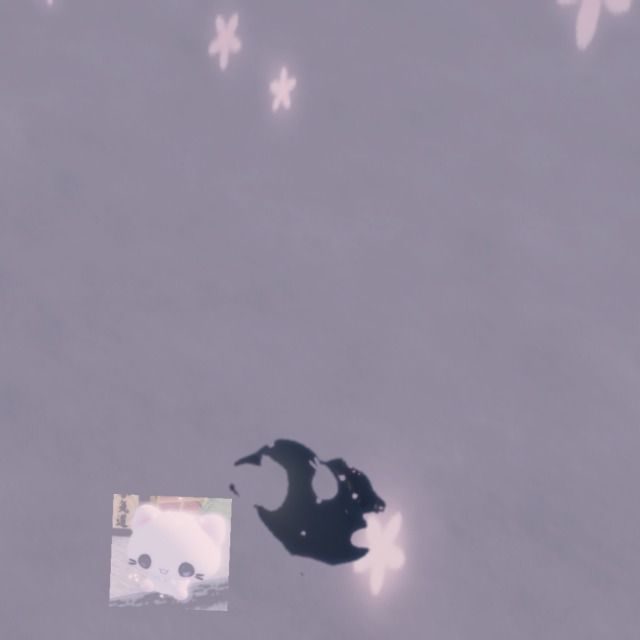urso_branco: (109, 494, 232, 611)
urso_preto: (184, 380, 434, 623)
